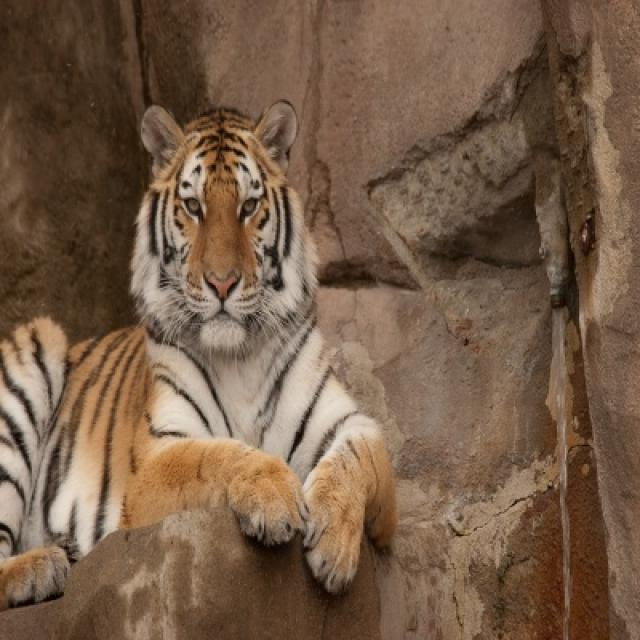Tiger: (0, 98, 396, 592)
